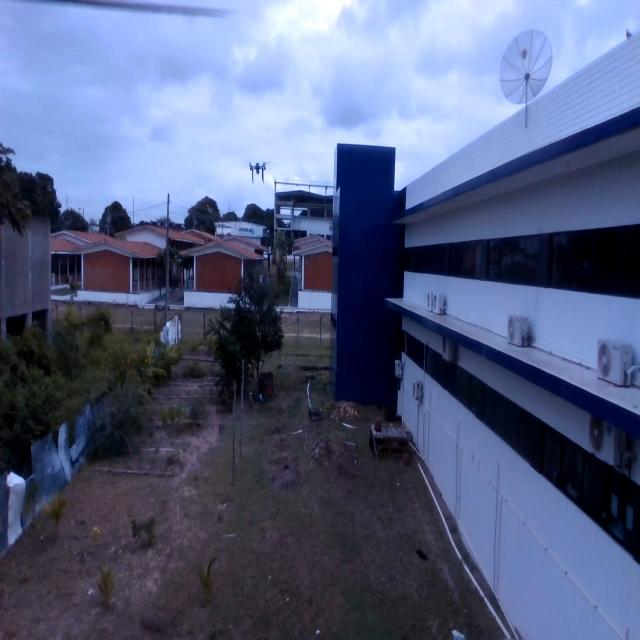-uav-: (246, 153, 271, 188)
